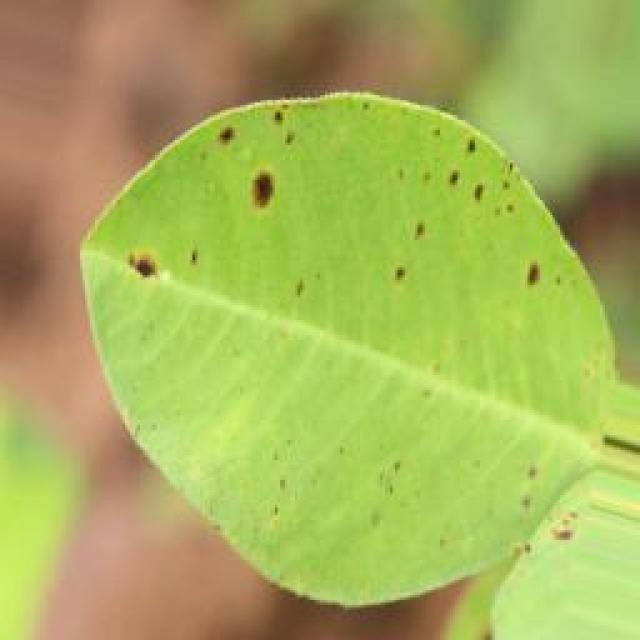Early_leaf_spot: (420, 468, 596, 566), (407, 100, 516, 219), (206, 99, 308, 223), (379, 190, 467, 316), (511, 240, 595, 332), (115, 229, 187, 313), (269, 243, 321, 335)
